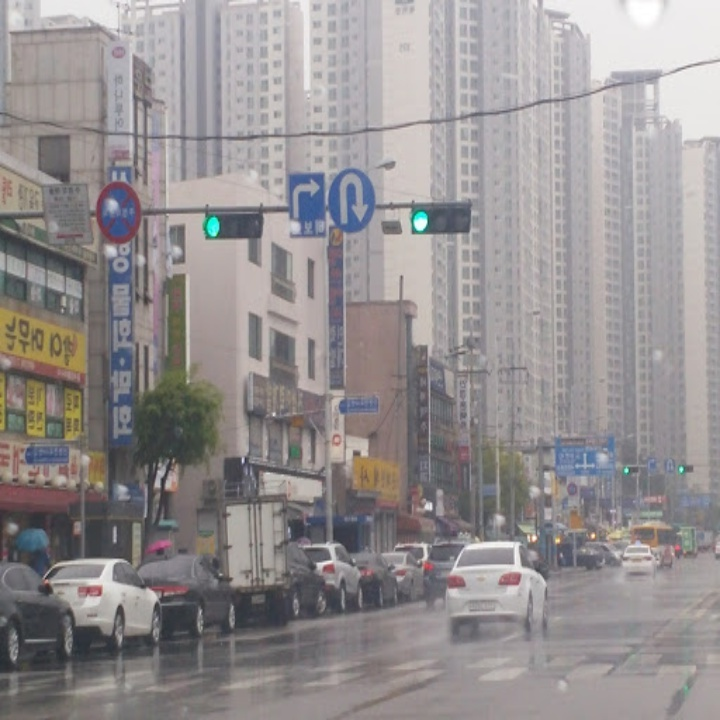right: (289, 176, 329, 219)
